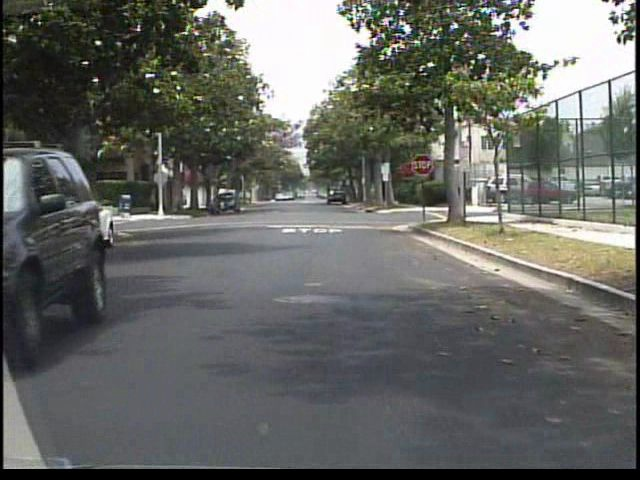person: (209, 177, 232, 219)
